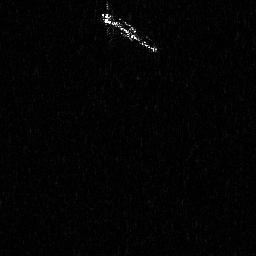ship: (99, 2, 158, 54)
